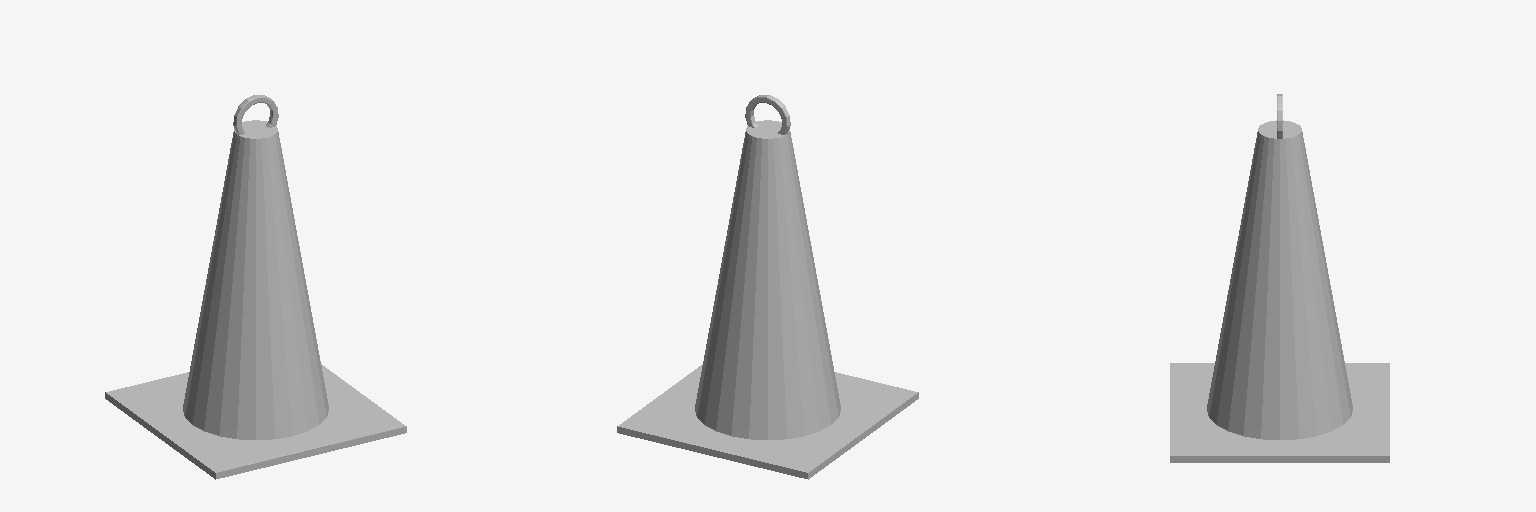
The model's file is main.obj.
The picture shows the model from 3 angles: view 1: azimuth 30°, elevation 25°; view 2: azimuth 150°, elevation 25°; view 3: azimuth 270°, elevation 25°; orthographic projection.
Parts seen in each view (by area): view 1: Cone001; view 2: Cone001; view 3: Cone001.
Boxes of the visible parts, box(x1,y1,x2,y2) form: Cone001: box(105, 95, 406, 479); Cone001: box(617, 95, 918, 479); Cone001: box(1170, 94, 1389, 462).
Size of the model in its own units: 300 by 481 by 300.